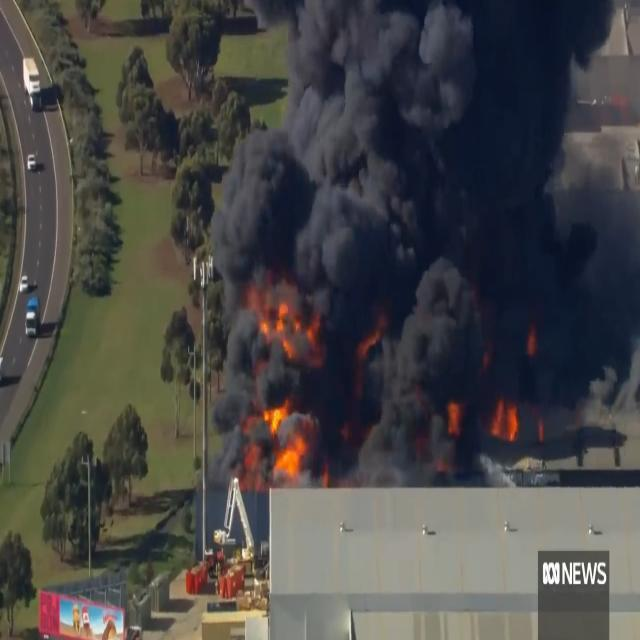fire: (262, 284, 320, 352), (266, 429, 314, 484), (490, 394, 529, 444), (442, 384, 470, 444), (262, 391, 294, 431), (354, 324, 386, 362), (524, 318, 542, 360)
